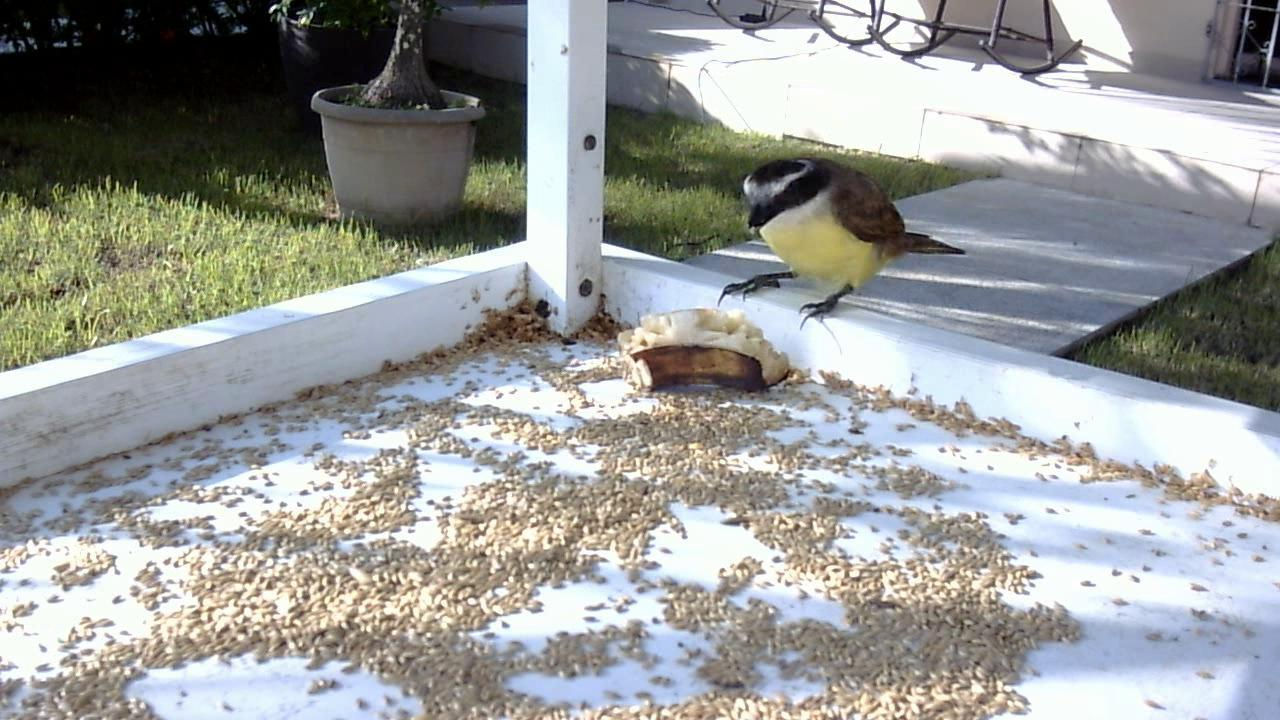bem_te_vi: (703, 133, 982, 345)
